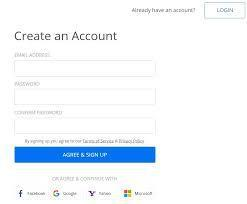button: (16, 148, 156, 164), (206, 4, 245, 20)
icon: (53, 190, 64, 200), (88, 190, 98, 201), (124, 190, 134, 200), (18, 189, 27, 199)
input: (16, 61, 156, 78), (15, 90, 156, 106), (15, 120, 156, 136)
label: (131, 7, 200, 16), (13, 111, 63, 117), (14, 52, 51, 59), (14, 81, 41, 88)
